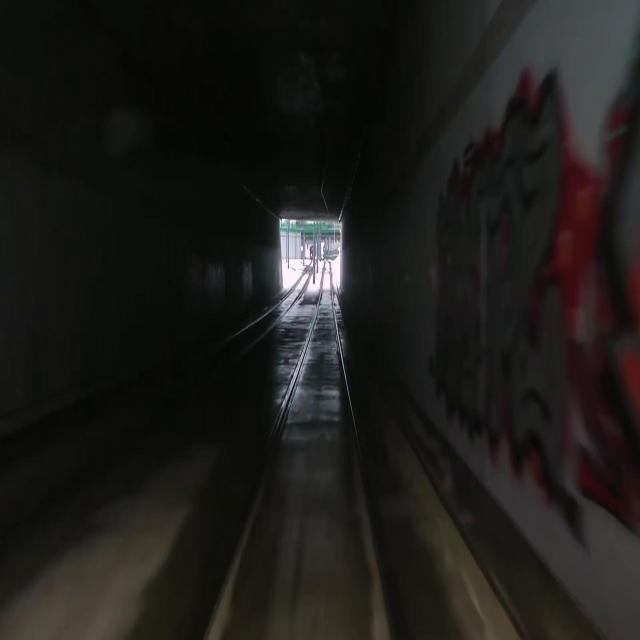rail-track: (0, 259, 313, 535), (207, 261, 400, 639)
